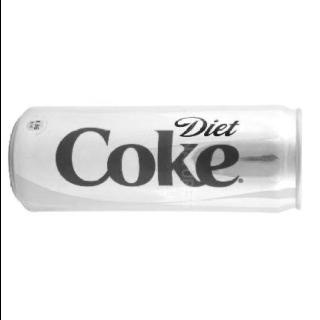alumunium_can: (7, 104, 304, 213)
